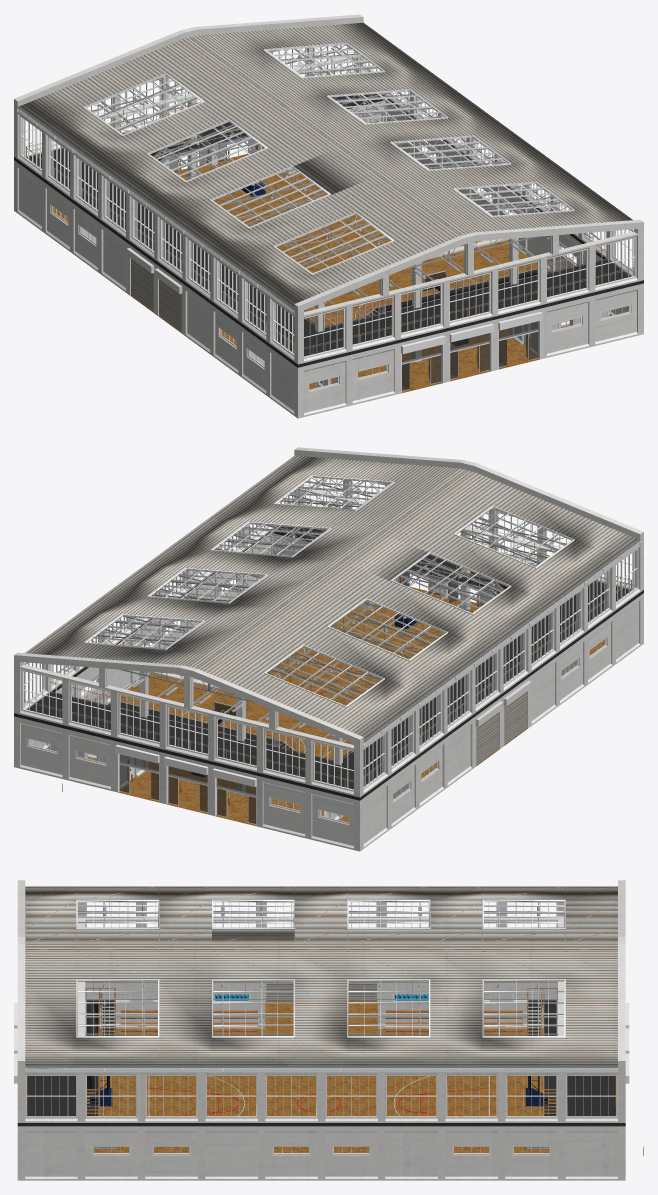
Rendered from court-transformed.glb.
3 views of the same model, one above another, from view 1: azimuth 30°, elevation 25°; view 2: azimuth 150°, elevation 25°; view 3: azimuth 270°, elevation 25° (orthographic). The views are drawn at different scales.
Parts seen in each view (by area): view 1: Roof2, Walls, Roof1, LevelFloor, WindowFrames, GymFloor, Truss, EntranceDoors1, SideTruss1, SideTruss2, Rails, PlatedDoors (+4 smaller); view 2: Roof2, Walls, Roof1, LevelFloor, WindowFrames, GymFloor, Truss, EntranceDoors2, SideTruss2, SideTruss1, Rails, PlatedDoors (+4 smaller); view 3: Roof1, Walls, Roof2, GymFloor, WindowFrames, LevelFloor, Truss, Vents2, SideTruss1, SideTruss2, Seats1, Seats2 (+4 smaller).
Boxes of the visible parts, x1=… form: Roof2: x1=17, y1=37, x2=460, y2=309; Walls: x1=14, y1=47, x2=643, y2=418; Roof1: x1=191, y1=22, x2=632, y2=235; LevelFloor: x1=14, y1=93, x2=643, y2=367; WindowFrames: x1=19, y1=45, x2=636, y2=390; GymFloor: x1=53, y1=152, x2=610, y2=392; Truss: x1=91, y1=45, x2=633, y2=304; EntranceDoors1: x1=401, y1=311, x2=542, y2=393; SideTruss1: x1=294, y1=219, x2=643, y2=316; SideTruss2: x1=14, y1=14, x2=363, y2=110; Rails: x1=26, y1=68, x2=633, y2=353; PlatedDoors: x1=131, y1=259, x2=181, y2=332; Roof2: x1=197, y1=470, x2=640, y2=742; Walls: x1=14, y1=480, x2=643, y2=851; Roof1: x1=25, y1=455, x2=466, y2=668; LevelFloor: x1=14, y1=526, x2=643, y2=800; WindowFrames: x1=21, y1=478, x2=638, y2=823; GymFloor: x1=47, y1=586, x2=604, y2=825; Truss: x1=24, y1=478, x2=566, y2=737; EntranceDoors2: x1=115, y1=744, x2=256, y2=826; SideTruss2: x1=14, y1=652, x2=363, y2=749; SideTruss1: x1=294, y1=447, x2=643, y2=543; Rails: x1=24, y1=500, x2=631, y2=786; PlatedDoors: x1=476, y1=692, x2=526, y2=765; Roof1: x1=25, y1=947, x2=617, y2=1068; Walls: x1=17, y1=902, x2=625, y2=1180; Roof2: x1=25, y1=886, x2=617, y2=946; GymFloor: x1=87, y1=1001, x2=556, y2=1152; WindowFrames: x1=25, y1=902, x2=617, y2=1154; LevelFloor: x1=17, y1=1000, x2=625, y2=1126; Truss: x1=77, y1=901, x2=564, y2=1035; Vents2: x1=25, y1=1067, x2=617, y2=1072; SideTruss1: x1=17, y1=880, x2=25, y2=1071; SideTruss2: x1=618, y1=880, x2=625, y2=1071; Seats1: x1=385, y1=1010, x2=522, y2=1035; Seats2: x1=120, y1=1010, x2=257, y2=1035.
Bounding box in the file's own units: 27.64 × 10.91 × 40.3.
23 materials, 9 textured.
